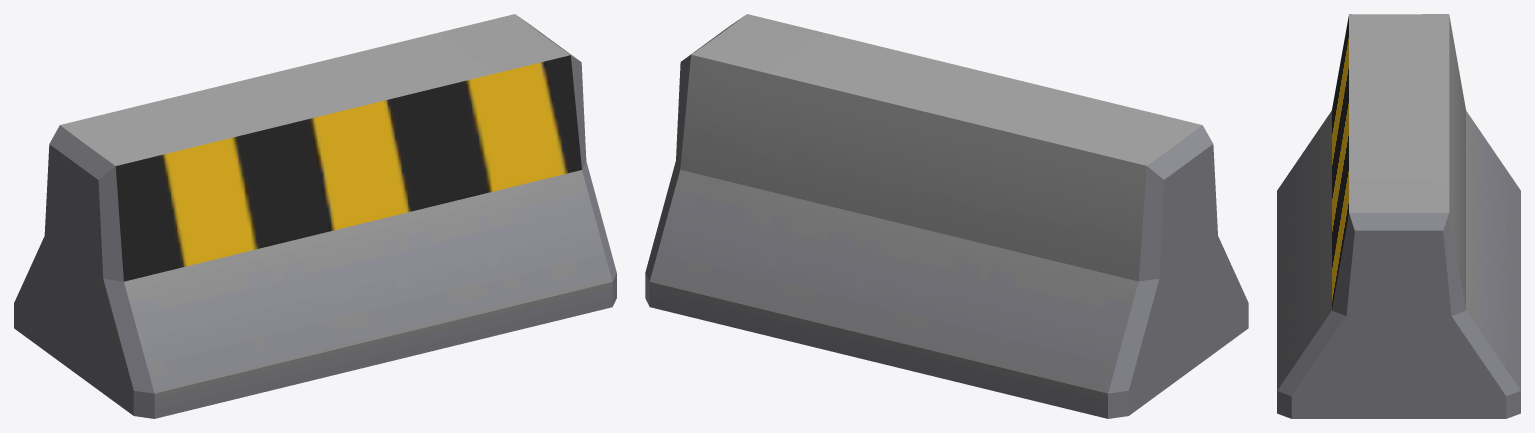
Rendered from Concrete Barrier.fbx.
3 renders of one model, left to right at view 1: azimuth 30°, elevation 25°; view 2: azimuth 150°, elevation 25°; view 3: azimuth 270°, elevation 25°, orthographic. The views are drawn at different scales.
Parts seen in each view (by area): view 1: Concrete_Barrier; view 2: Concrete_Barrier; view 3: Concrete_Barrier.
Boxes of the visible parts, x1=… form: Concrete_Barrier: x1=14, y1=14, x2=616, y2=418; Concrete_Barrier: x1=645, y1=14, x2=1248, y2=418; Concrete_Barrier: x1=1277, y1=14, x2=1520, y2=418.
Bounding box in the file's own units: 150 × 66.05 × 73.
